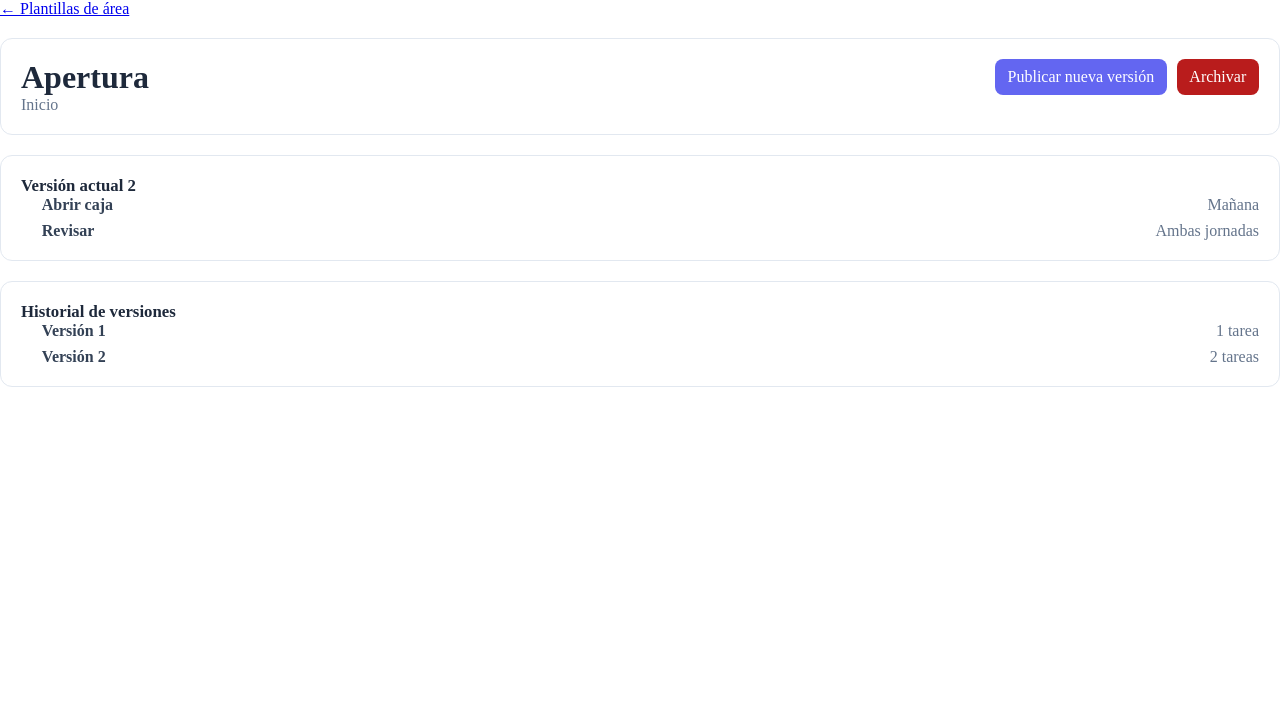
Test: PlantillaAreaDetallePage › explica el conflicto de evidencia terminal sin exponer el código del backend
The width and height of the screenshot is (1280, 720).
expect the text "Abrir caja" is shown: met, box [42,196,113,214]
Click the button "Publicar nueva versión" at (1081, 77), box [995,59,1167,95]
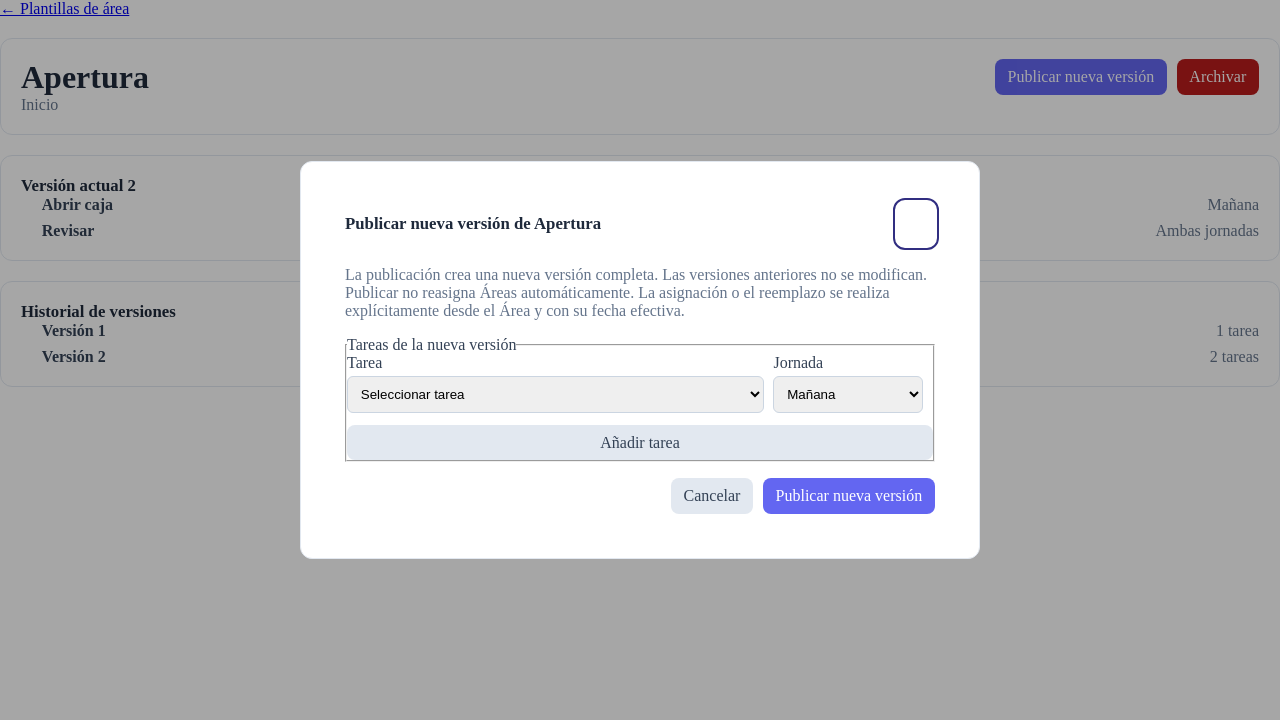
Select "Abrir caja" in the dropdown named "Tarea 1" at (555, 395), box [347,376,764,413]
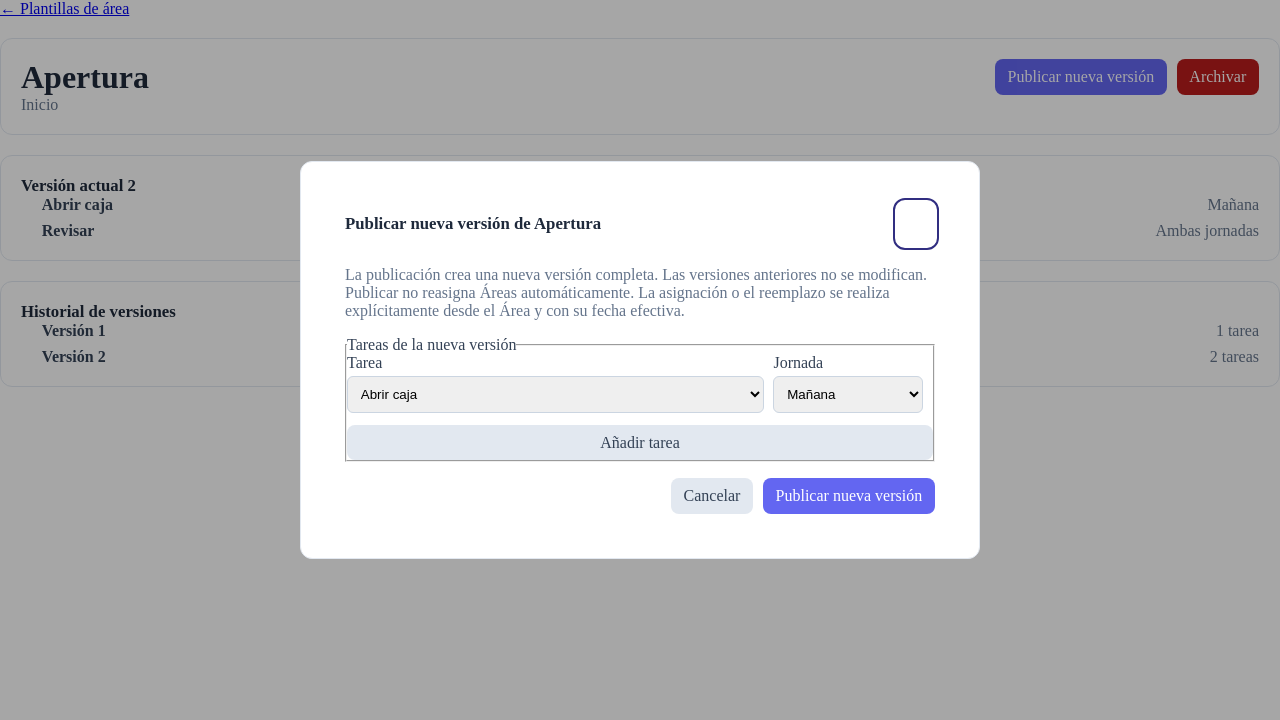
Click the button "Publicar nueva versión" at (849, 496), box [763,478,935,514]
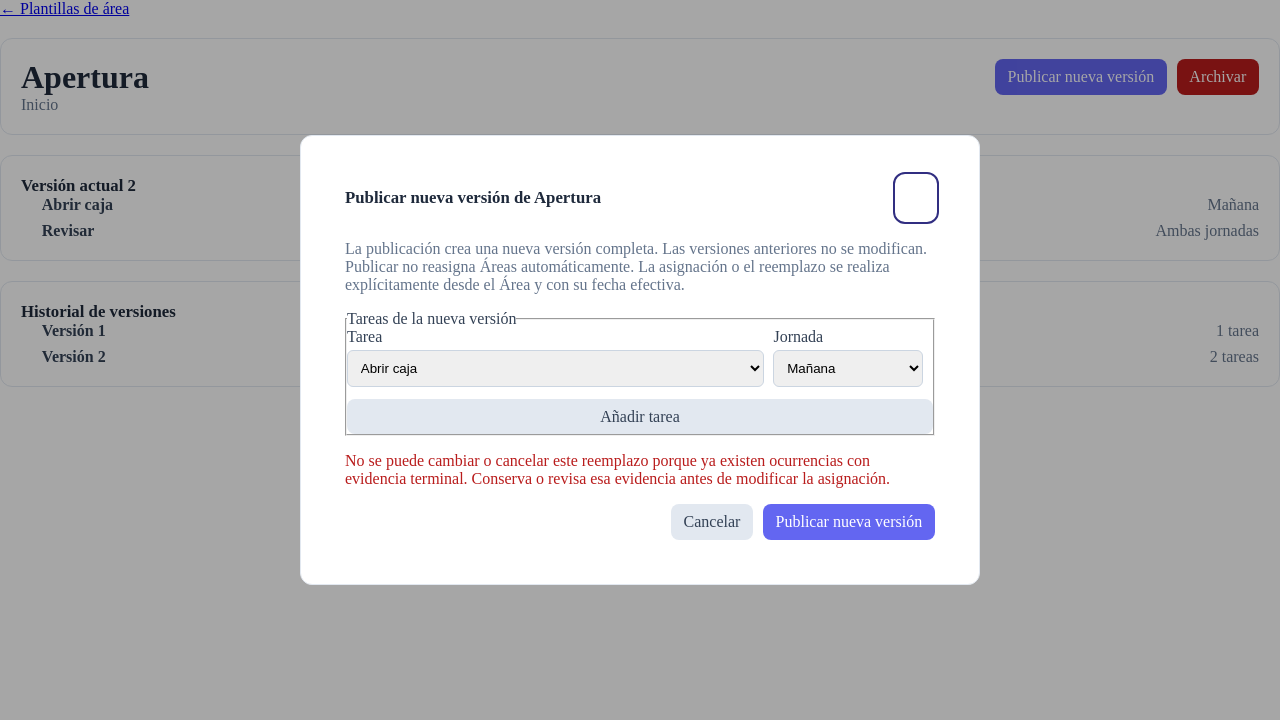
expect the message shows "No se puede cambiar o cancelar este reemplazo porque ya existen ocurrencias con evidencia terminal. Conserva o revisa esa evidencia antes de modificar la asigna": met, box [345,452,890,488]
